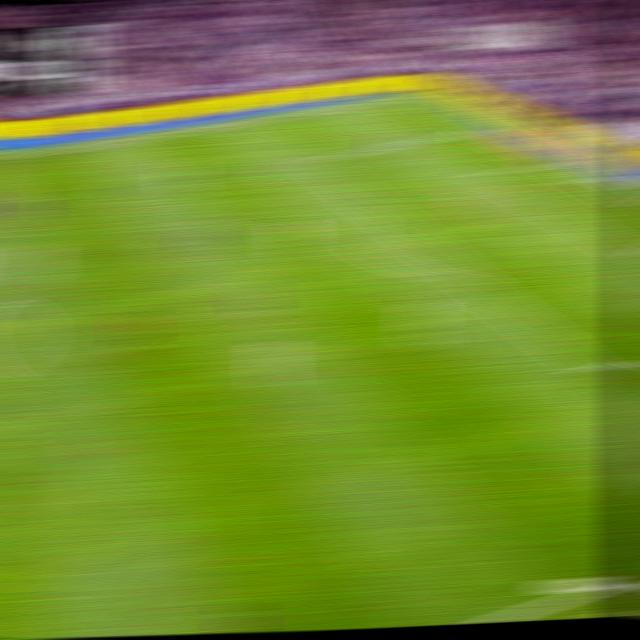bigarea_bottom_inner: (576, 356, 608, 381)
bigarea_top_inner: (300, 151, 328, 167)
bigarea_top_outter: (461, 121, 490, 132)
bottom_arc_area_intersection: (452, 268, 484, 285)
smallarea_top_inner: (475, 168, 503, 181)
top_arc_area_intersection: (360, 197, 389, 213)
